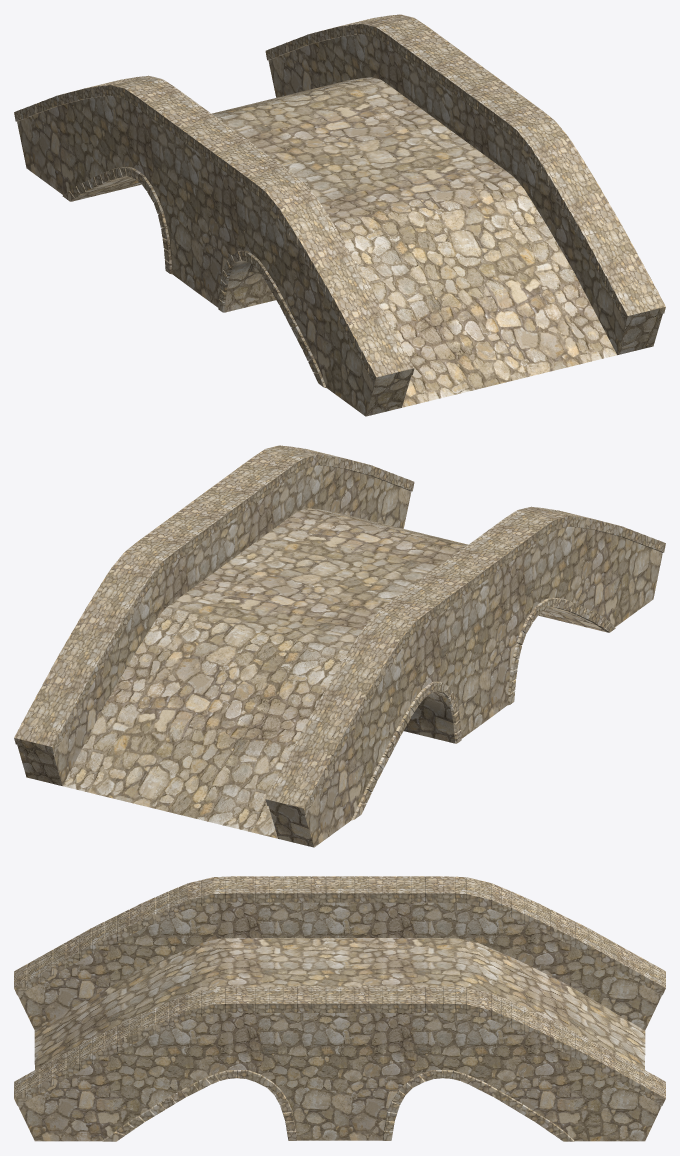
Rendered from Bridge2.obj.
3 renders of one model, top to bottom at view 1: azimuth 30°, elevation 25°; view 2: azimuth 150°, elevation 25°; view 3: azimuth 270°, elevation 25°, orthographic. The views are drawn at different scales.
Visible parts, largest first — view 1: Bridge; view 2: Bridge; view 3: Bridge.
Part boxes in pixels (x1,y1,x2,y2): Bridge: [14, 14, 665, 416]; Bridge: [14, 445, 665, 847]; Bridge: [14, 876, 665, 1141].
Size of the model in its own units: 117 by 58.61 by 251.
1 material, 1 textured.
